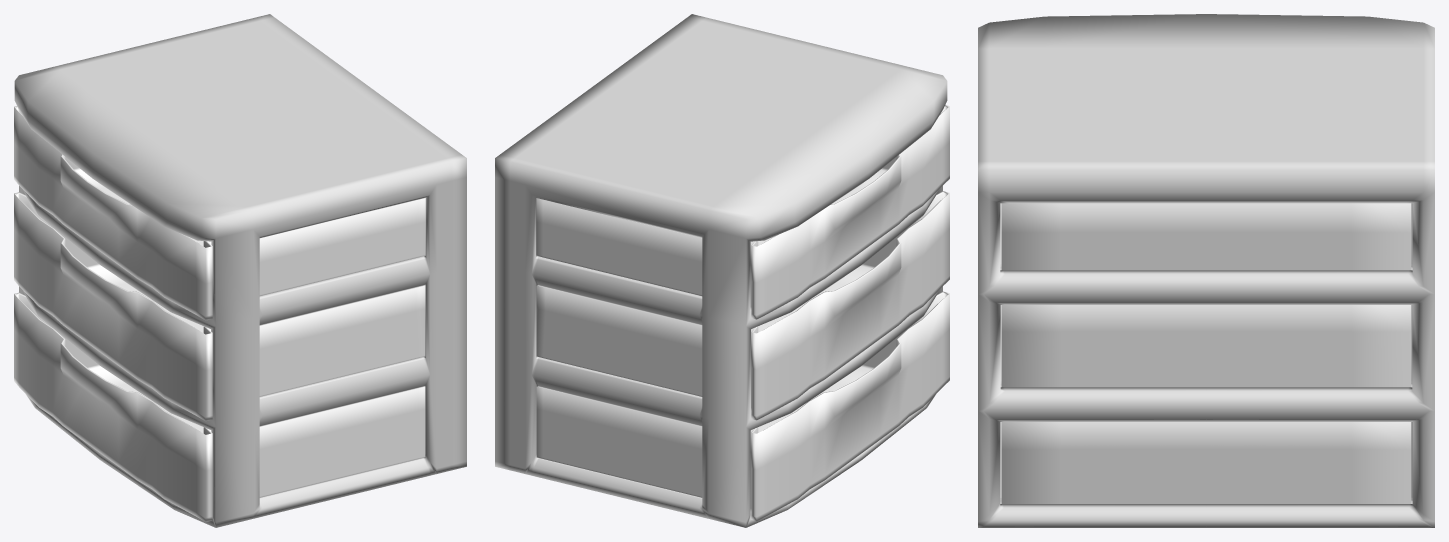
File: plastic-DVmTd5xW.glb
The picture shows the model from 3 angles, left to right: view 1: azimuth 30°, elevation 25°; view 2: azimuth 150°, elevation 25°; view 3: azimuth 270°, elevation 25°; orthographic projection. The views are drawn at different scales.
Visible parts, largest first — view 1: Organizer_1, Drawers_0; view 2: Organizer_1, Drawers_0; view 3: Organizer_1, Drawers_0.
Boxes of the visible parts, bbox=[...] form: Organizer_1: bbox=[14, 14, 466, 527]; Drawers_0: bbox=[14, 106, 425, 522]; Organizer_1: bbox=[495, 14, 947, 527]; Drawers_0: bbox=[536, 105, 949, 521]; Organizer_1: bbox=[978, 14, 1434, 527]; Drawers_0: bbox=[1001, 203, 1411, 503].
Bounding box in the file's own units: 1.5 × 1.57 × 1.82.
2 materials, 2 textured.
